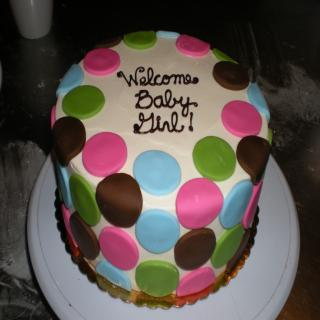Cake: (50, 29, 272, 305)
